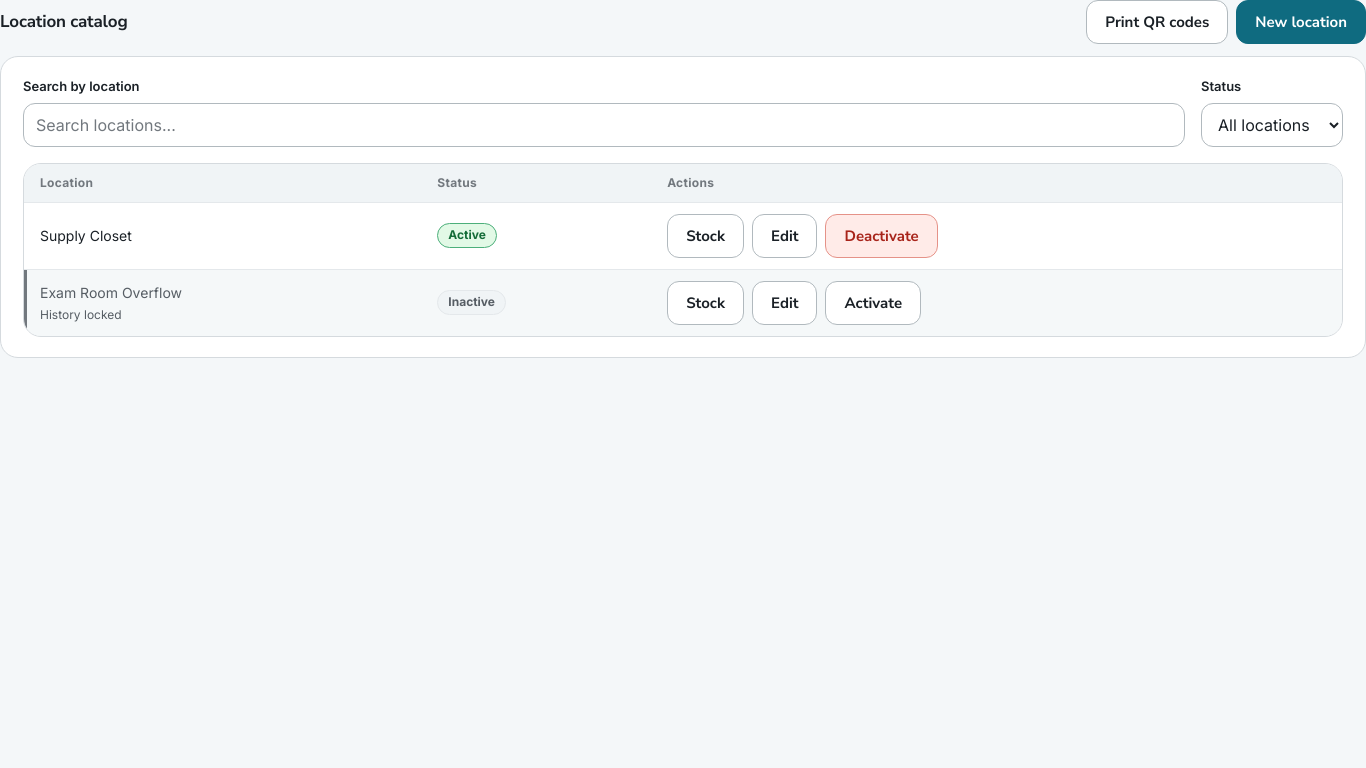
Scenario: locations catalog interaction › opens edit mode when a manager clicks a row
Click the text "Supply Closet": (86, 236) 40,227 -> 132,244
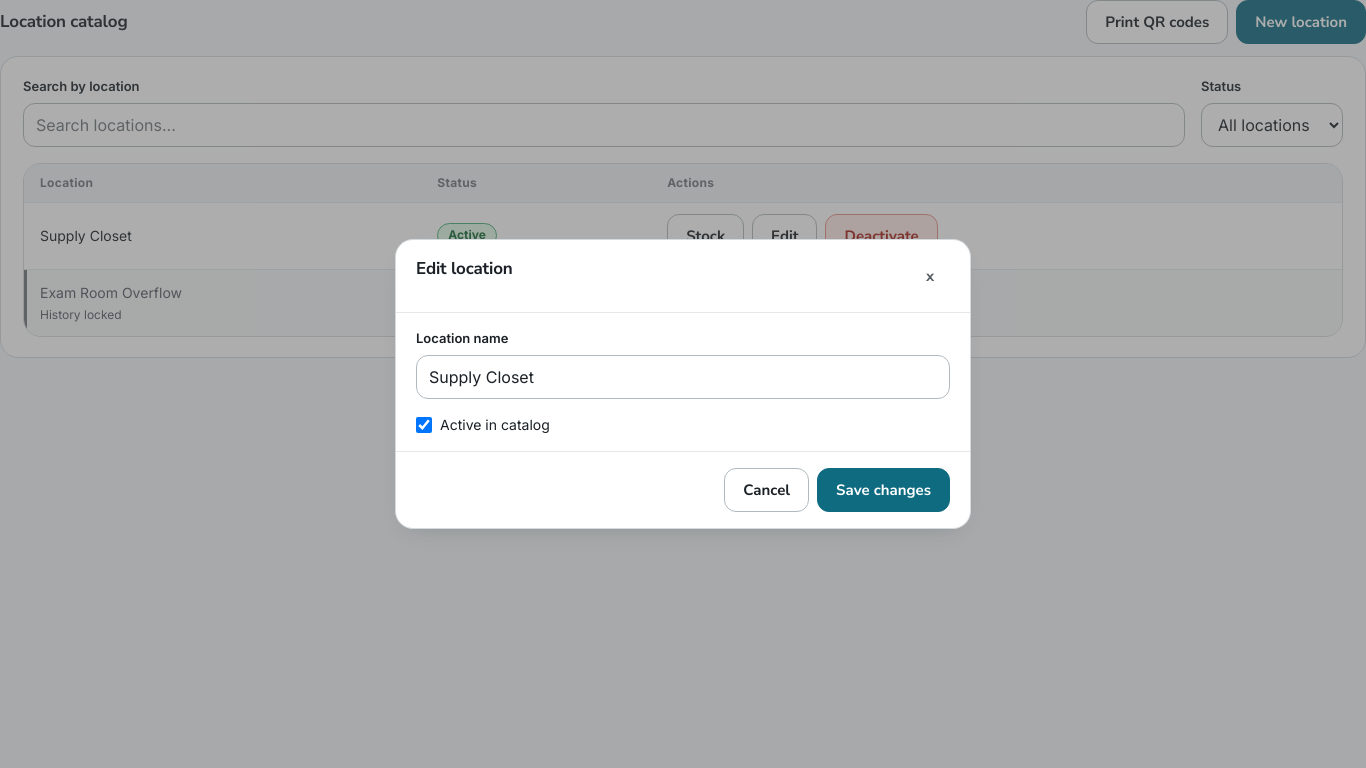
Expected: the heading "Edit location" is shown, 416,256 -> 512,282
Expected: the button "Save changes" is shown, 817,468 -> 950,512
